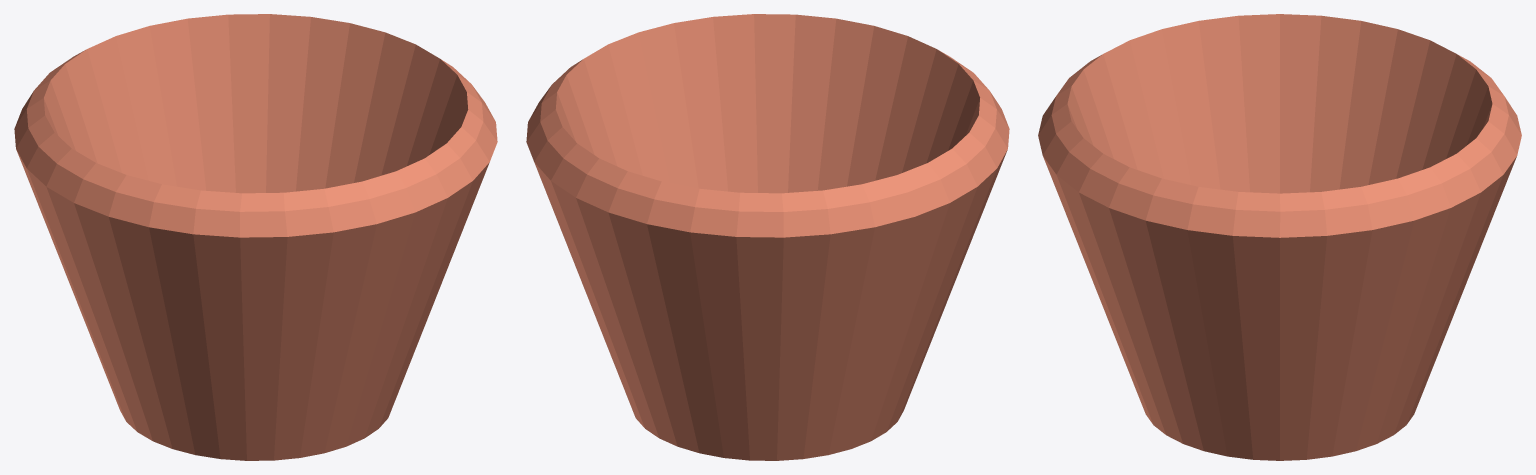
File: basket04.fbx
The picture shows the model from 3 angles, left to right: view 1: azimuth 30°, elevation 25°; view 2: azimuth 150°, elevation 25°; view 3: azimuth 270°, elevation 25°; orthographic projection.
Visible parts, largest first — view 1: basket04; view 2: basket04; view 3: basket04.
Boxes of the visible parts, bbox=[...] form: basket04: bbox=[14, 14, 497, 460]; basket04: bbox=[526, 14, 1009, 460]; basket04: bbox=[1038, 14, 1521, 460].
Size of the model in its own units: 124 by 84.36 by 124.
